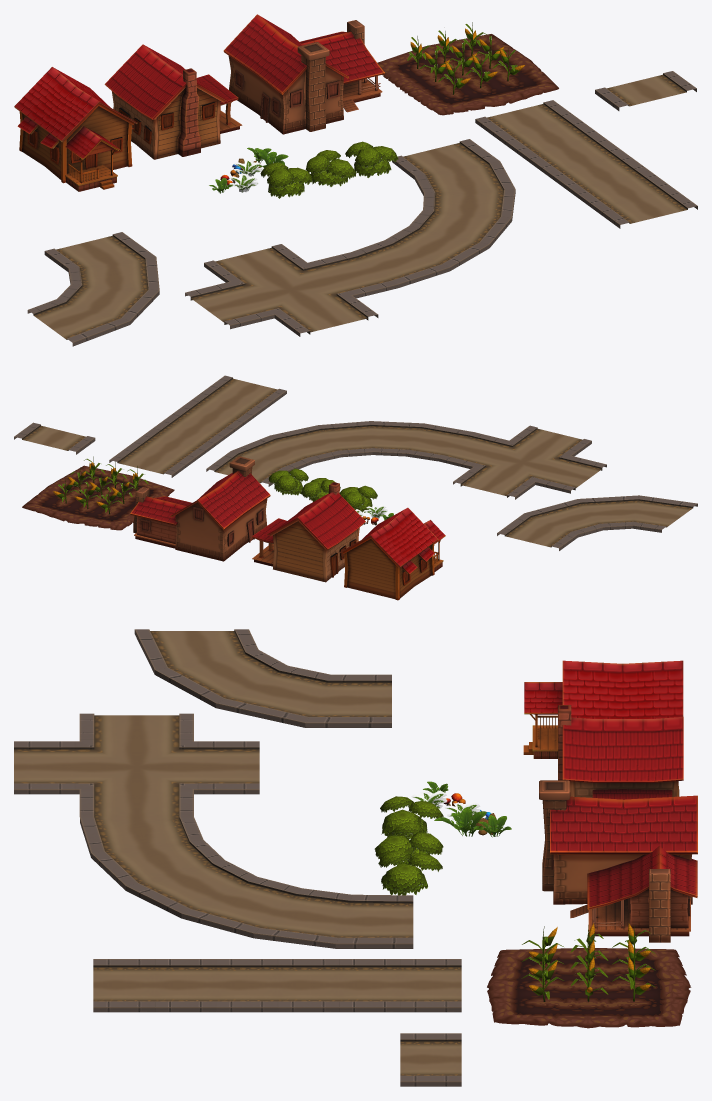
The model's file is Spring-updated.FBX.
3 views of the same model, one above another, from view 1: azimuth 30°, elevation 25°; view 2: azimuth 150°, elevation 25°; view 3: azimuth 270°, elevation 25° (orthographic). The views are drawn at different scales.
Visible parts, largest first — view 1: Object288, Object012, Object287, Object289, Line1383, Object283, Object286, Line1390, Object294, Line1398, Line1388, Line1387 (+1 smaller); view 2: Object012, Object288, Object287, Object289, Object283, Line1383, Object286, Line1390, Object294, Line1398, Line1389, Line1387 (+1 smaller); view 3: Object288, Object012, Object289, Object287, Object286, Line1390, Object283, Line1383, Line1398, Object294, Line1389, Line1388 (+1 smaller).
Part boxes in pixels (box(x1,y1,x2,y2)): Object288: box(352, 139, 515, 288); Object012: box(223, 14, 385, 134); Object287: box(185, 244, 396, 336); Object289: box(475, 100, 697, 228); Line1383: box(14, 67, 137, 191); Object283: box(104, 44, 242, 159); Object286: box(27, 232, 159, 346); Line1390: box(377, 34, 558, 115); Object294: box(407, 22, 524, 94); Line1398: box(595, 71, 696, 110); Line1388: box(305, 150, 356, 186); Line1387: box(260, 162, 312, 198); Object012: box(130, 456, 270, 561); Object288: box(206, 421, 472, 486); Object287: box(437, 425, 606, 499); Object289: box(109, 375, 286, 477); Object283: box(252, 482, 365, 582); Line1383: box(340, 507, 445, 600); Object286: box(497, 495, 697, 550); Line1390: box(22, 465, 174, 530); Object294: box(53, 456, 148, 514); Line1398: box(14, 422, 95, 454); Line1389: box(268, 468, 308, 495); Line1387: box(339, 485, 377, 512); Object288: box(80, 817, 413, 948); Object012: box(539, 780, 697, 942); Object289: box(93, 959, 461, 1012); Object287: box(14, 713, 259, 818); Object286: box(134, 629, 391, 727); Line1390: box(487, 948, 691, 1028); Object283: box(558, 705, 683, 799); Line1383: box(523, 660, 683, 758); Line1398: box(400, 1033, 461, 1086); Object294: box(521, 923, 655, 1001); Line1389: box(378, 850, 442, 895); Line1388: box(374, 822, 443, 865).
Bounding box in the file's own units: 1529 × 172 × 977.
13 materials, 13 textured.
